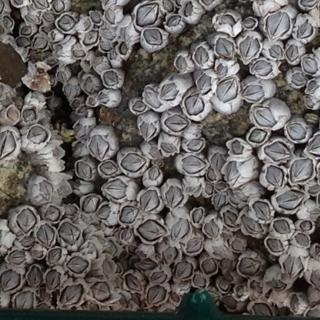Barnacle: (143, 83, 177, 111), (135, 217, 167, 241), (265, 12, 291, 39), (215, 77, 239, 102), (238, 35, 261, 60), (282, 251, 303, 278), (276, 190, 304, 210), (289, 159, 312, 183), (88, 134, 110, 159), (136, 1, 158, 26), (16, 206, 37, 232), (264, 141, 291, 161), (102, 178, 127, 199), (61, 284, 84, 306), (139, 189, 160, 213), (254, 105, 276, 127), (0, 268, 20, 292), (120, 153, 145, 172), (58, 222, 79, 244), (0, 129, 15, 159), (241, 213, 262, 234), (26, 125, 48, 145), (185, 93, 205, 115), (182, 154, 205, 173), (241, 82, 264, 101), (90, 280, 110, 301), (265, 165, 284, 187), (166, 185, 184, 208), (14, 291, 34, 311), (215, 38, 235, 58), (239, 257, 261, 275), (37, 223, 54, 246), (170, 218, 187, 241), (164, 114, 188, 130), (174, 259, 192, 280), (66, 256, 88, 273), (147, 285, 166, 304), (124, 273, 142, 293), (285, 122, 305, 140), (252, 200, 269, 221), (130, 257, 155, 271), (225, 162, 240, 185), (222, 210, 240, 229), (118, 205, 138, 222), (80, 196, 100, 213), (45, 268, 61, 289), (252, 302, 272, 318), (246, 127, 266, 143), (28, 265, 42, 287), (140, 120, 156, 139), (39, 180, 54, 200), (197, 73, 212, 93), (193, 46, 208, 66), (142, 29, 162, 44), (46, 246, 62, 264), (44, 204, 60, 222), (76, 161, 92, 179), (302, 56, 318, 74), (250, 61, 272, 74), (159, 140, 178, 155), (186, 236, 202, 253), (83, 29, 99, 46), (58, 15, 75, 31), (210, 152, 224, 171), (215, 14, 235, 27), (162, 246, 177, 263), (266, 238, 283, 253), (297, 20, 312, 37), (272, 220, 290, 234), (204, 219, 218, 237), (200, 258, 216, 273), (290, 71, 306, 86), (102, 70, 118, 85), (8, 250, 26, 263), (286, 43, 299, 61), (288, 294, 300, 313), (220, 256, 234, 272), (212, 192, 226, 208), (230, 139, 244, 154), (268, 43, 282, 58), (100, 27, 115, 41), (250, 279, 263, 295), (98, 204, 111, 220), (150, 271, 167, 283), (191, 206, 203, 223), (65, 83, 77, 100), (31, 37, 48, 49), (98, 162, 116, 173), (71, 141, 85, 155), (222, 295, 237, 308), (294, 233, 309, 246), (51, 147, 63, 163), (87, 241, 98, 258), (147, 166, 160, 180), (147, 147, 162, 159), (7, 106, 19, 121), (25, 12, 40, 24), (269, 280, 285, 291), (104, 8, 115, 24), (63, 204, 78, 215), (176, 55, 186, 71), (30, 0, 50, 8), (30, 247, 43, 259), (105, 241, 117, 254), (74, 123, 86, 136), (132, 99, 145, 111), (161, 0, 173, 13), (166, 15, 181, 25), (231, 239, 243, 251), (230, 192, 242, 204), (306, 80, 318, 92), (38, 287, 49, 300), (219, 278, 229, 292), (207, 289, 218, 301), (120, 230, 132, 241), (20, 236, 33, 246), (307, 183, 320, 193), (243, 18, 256, 28), (15, 38, 29, 47), (206, 169, 216, 181), (90, 11, 100, 23), (184, 2, 192, 17), (299, 220, 312, 229), (85, 78, 93, 92), (41, 12, 55, 20), (215, 180, 226, 190), (217, 64, 227, 75), (53, 0, 63, 11), (103, 259, 112, 271), (304, 96, 313, 108), (300, 0, 317, 6), (99, 41, 110, 50), (20, 25, 31, 34), (3, 16, 12, 27), (73, 49, 85, 57), (119, 42, 127, 54), (236, 285, 245, 295), (127, 244, 136, 254), (98, 94, 108, 103), (205, 183, 213, 194), (57, 71, 66, 80), (109, 50, 117, 59), (60, 182, 67, 192), (315, 245, 320, 257)
